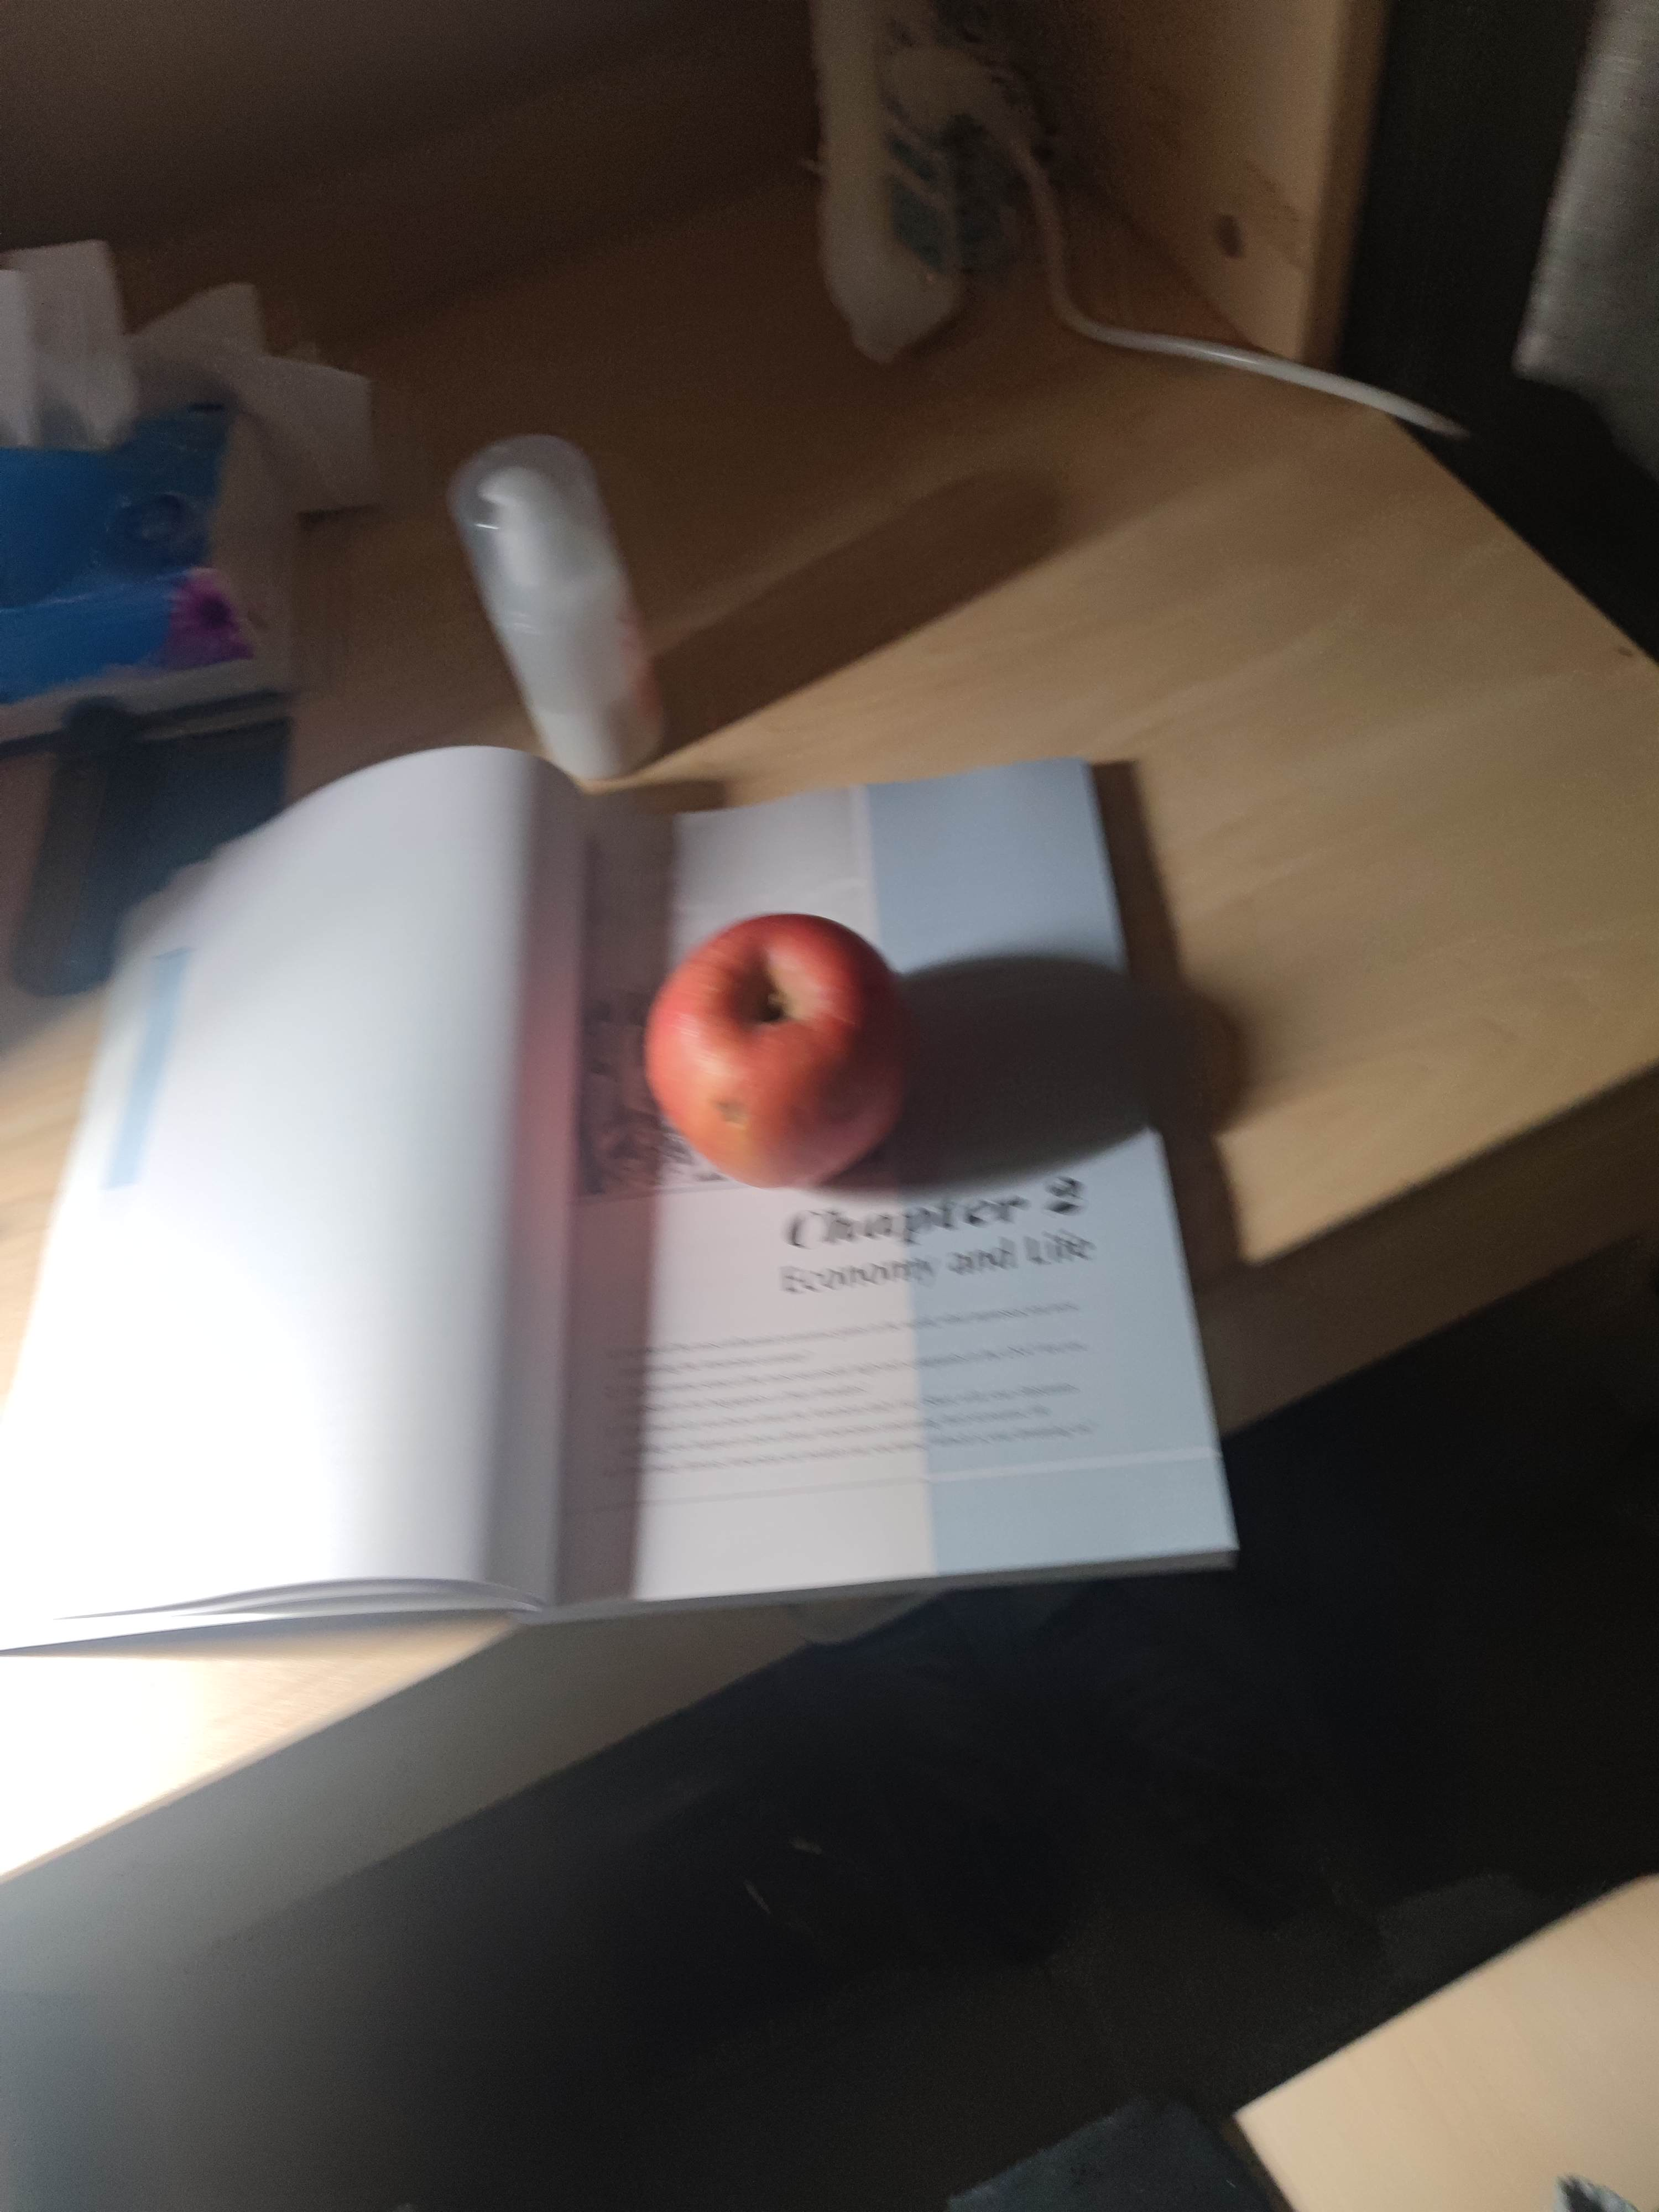apple: (638, 909, 915, 1188)
